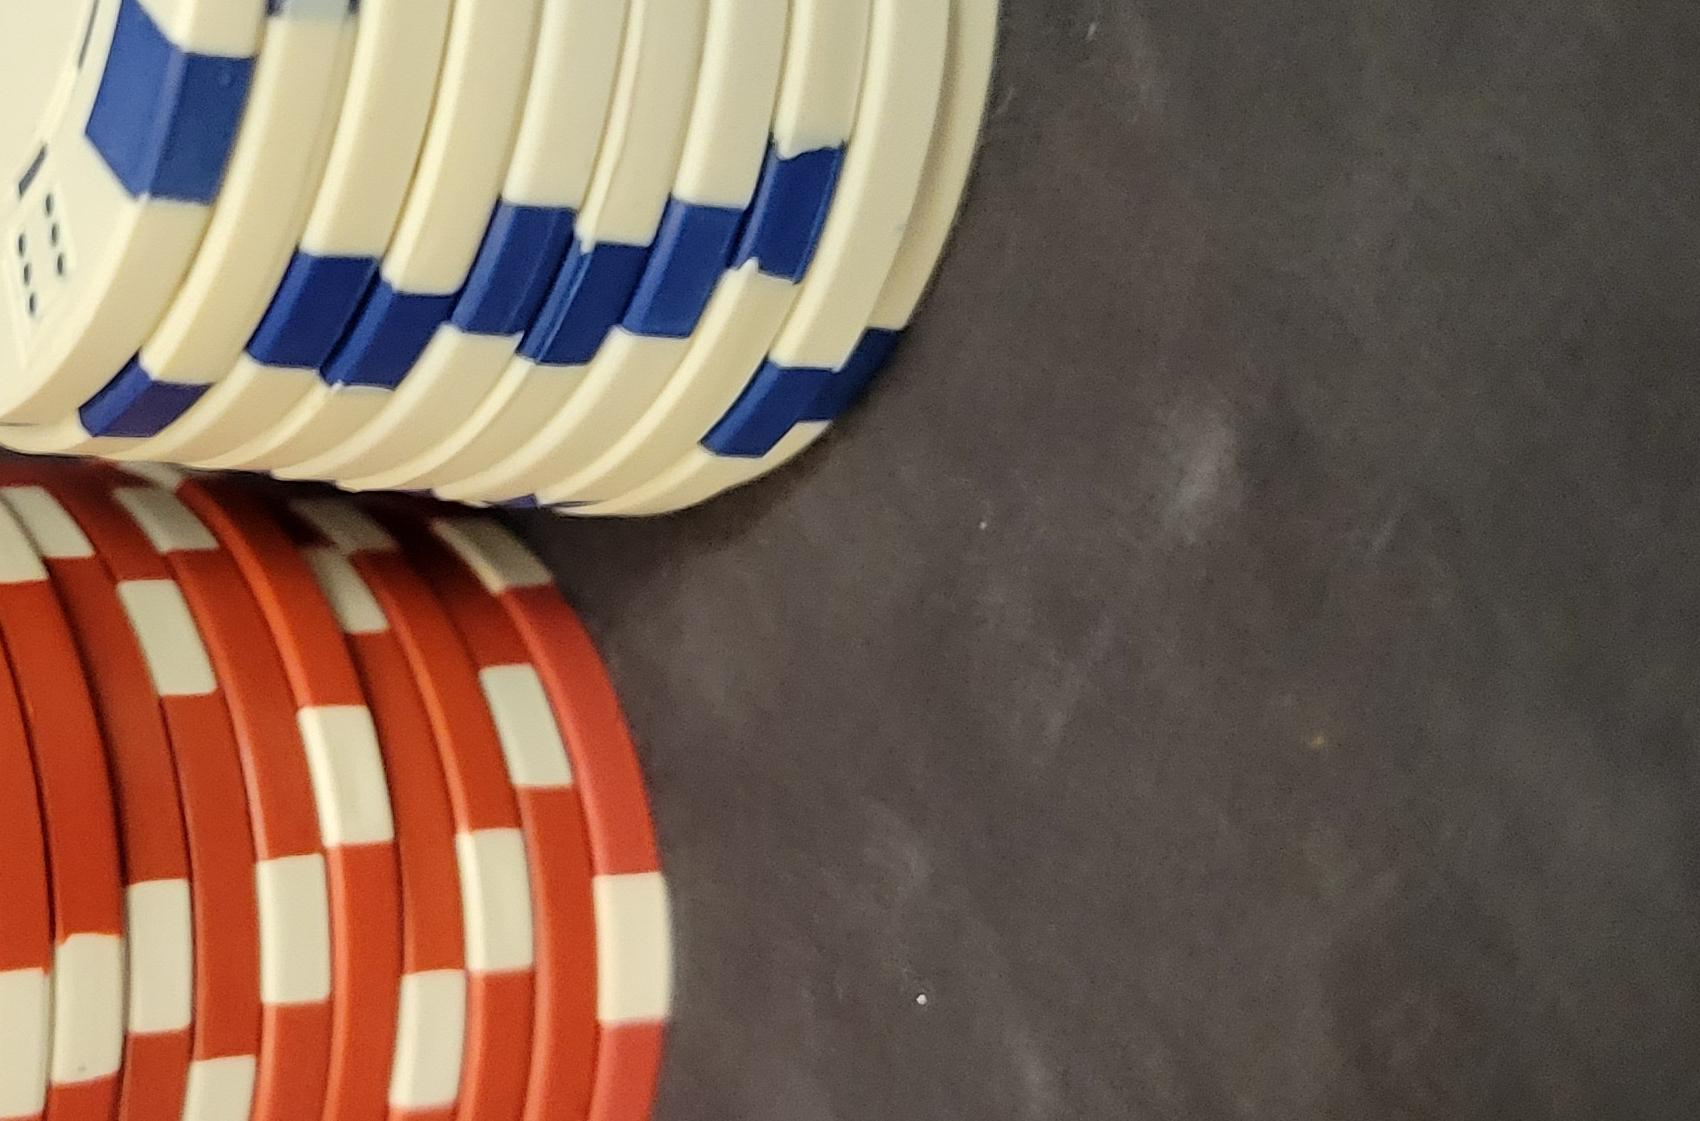Chip: (1, 365, 816, 1121)
